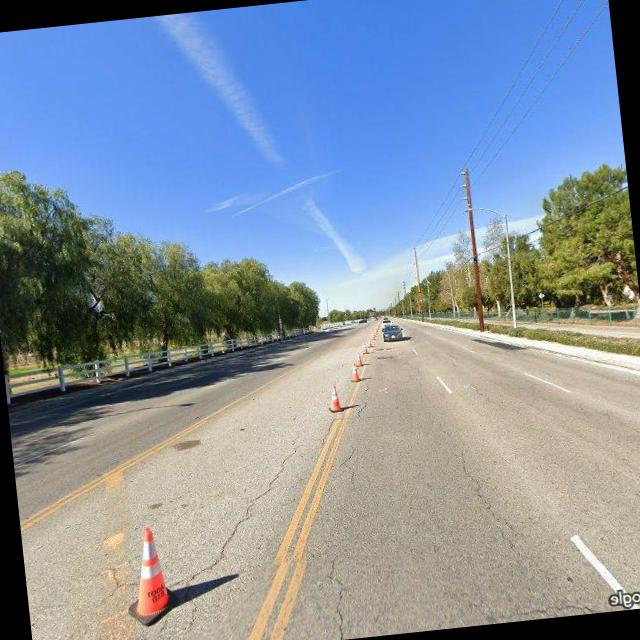crack: (120, 442, 322, 620), (454, 437, 524, 558), (319, 550, 356, 638), (510, 592, 620, 620), (338, 436, 368, 486), (352, 375, 378, 420)
